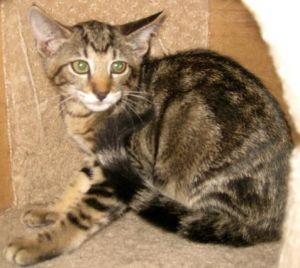bengal: (27, 3, 170, 116)
